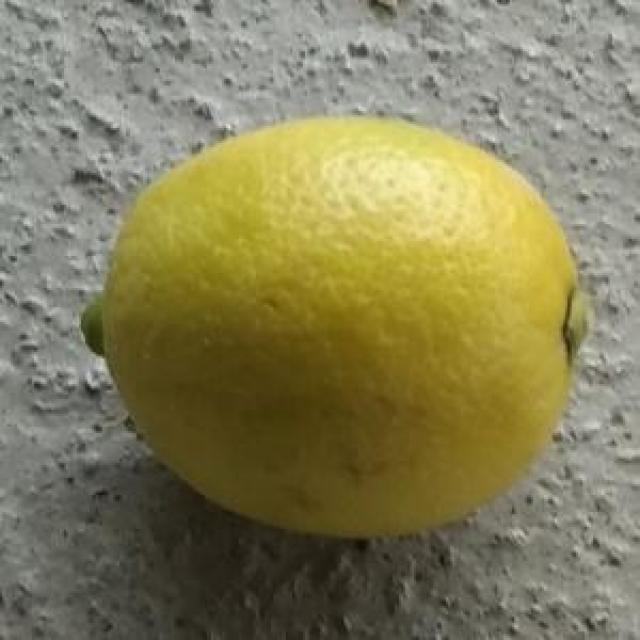lemon: (80, 116, 588, 544)
